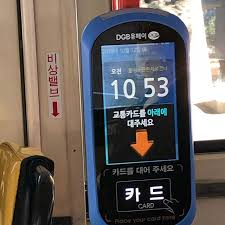terminal: (78, 6, 201, 224)
